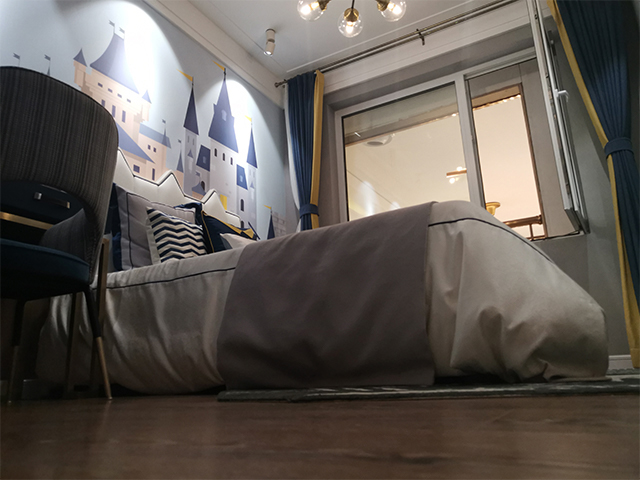bed: (22, 147, 614, 392)
carpet: (216, 373, 639, 405)
curtain: (546, 1, 640, 371)
stool: (1, 66, 120, 401)
